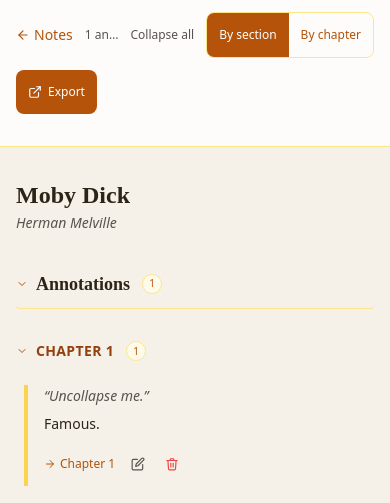
Test: clicking a collapsed heading again un-collapses it (line 306 delete branch)
Check: the text "“Uncollapse me.”" is shown, box [44, 386, 149, 405]
Click the button "Annotations 1": (83, 284) [16, 265, 374, 309]
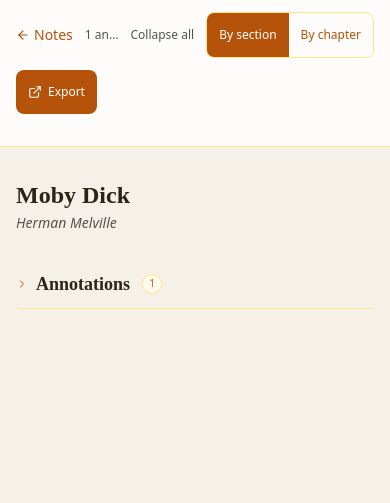
Check: the text "Uncollapse me" is gone
Click the button "Annotations 1": (83, 284) [16, 265, 374, 309]
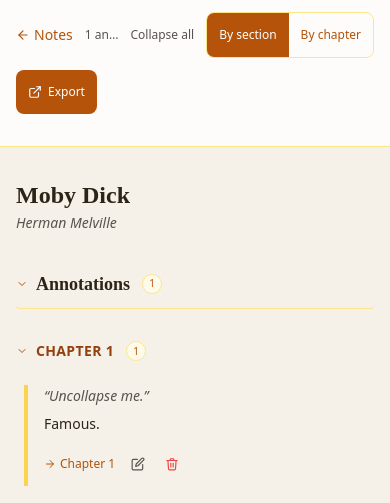
Check: the text "“Uncollapse me.”" is shown, box [44, 386, 149, 405]
